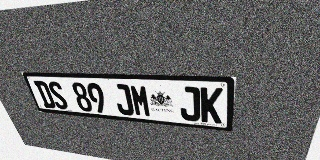8: (70, 82, 94, 112)
9: (85, 83, 108, 113)
D: (33, 81, 57, 109)
J: (179, 86, 200, 122), (112, 84, 135, 116)
K: (200, 87, 223, 124)
M: (129, 84, 152, 117)
S: (46, 81, 70, 110)
